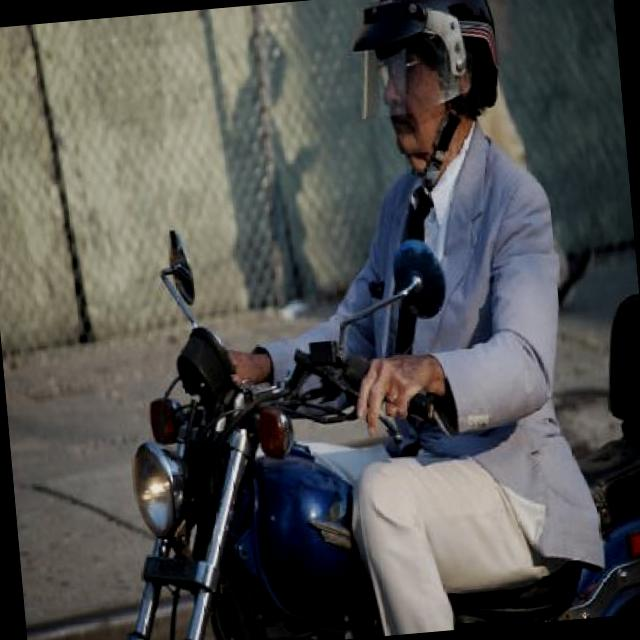Person: (199, 0, 610, 638)
